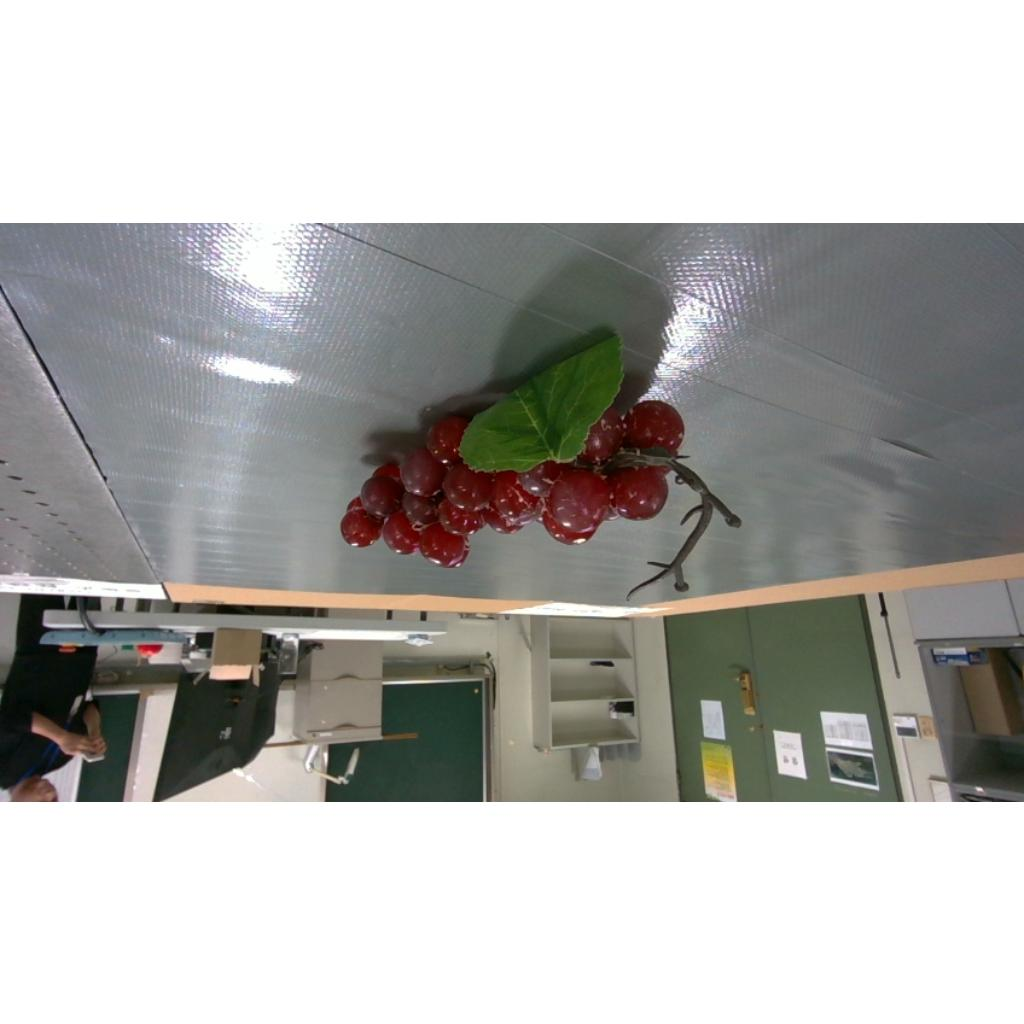grape: (340, 336, 740, 593)
